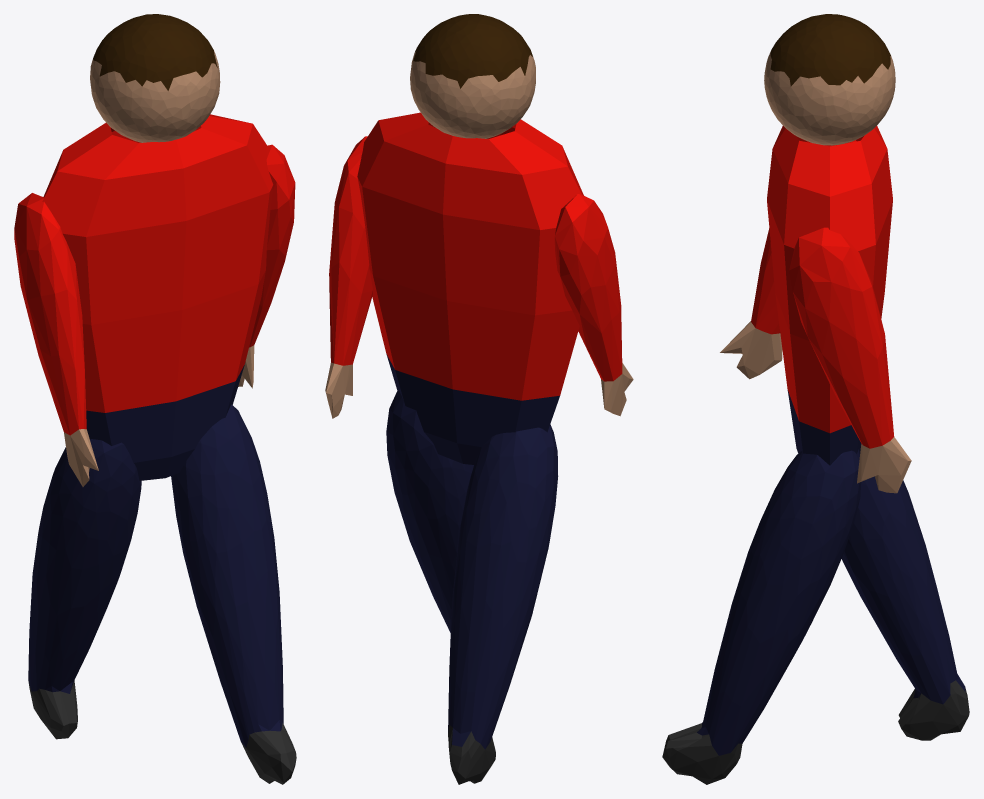
Rendered from people.glb.
3 renders of one model, left to right at view 1: azimuth 30°, elevation 25°; view 2: azimuth 150°, elevation 25°; view 3: azimuth 270°, elevation 25°, orthographic. The views are drawn at different scales.
Parts seen in each view (by area): view 1: body, leg_l, leg_r, head, arm_r, arm_l; view 2: body, leg_r, head, leg_l, arm_r, arm_l; view 3: leg_l, body, leg_r, arm_l, head, arm_r.
Part boxes in pixels (x1,y1,x2,y2): body: [42, 114, 273, 480]; leg_l: [171, 404, 296, 784]; leg_r: [28, 439, 141, 739]; head: [90, 14, 220, 142]; arm_r: [14, 193, 98, 486]; arm_l: [238, 144, 295, 388]; body: [357, 112, 583, 464]; leg_r: [448, 424, 558, 784]; head: [410, 14, 535, 138]; leg_l: [386, 390, 473, 632]; arm_r: [554, 194, 633, 416]; arm_l: [325, 136, 372, 418]; leg_l: [662, 449, 861, 784]; body: [767, 126, 892, 465]; leg_r: [841, 476, 969, 740]; arm_l: [789, 227, 911, 493]; head: [764, 14, 895, 145]; arm_r: [720, 140, 856, 379].
Bounding box in the file's own units: 0.6432 × 1.72 × 0.6408.
